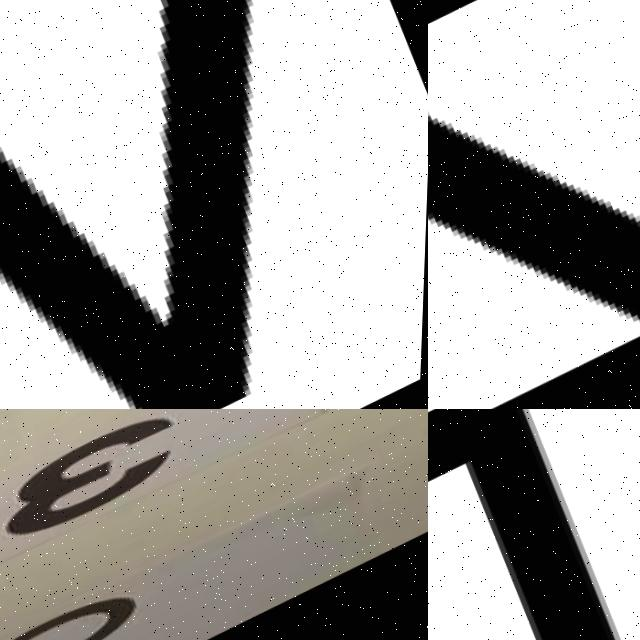3: (0, 409, 230, 572)
9: (0, 566, 184, 640)
H: (428, 409, 640, 640)
V: (0, 0, 428, 409)
Z: (428, 0, 640, 409)
